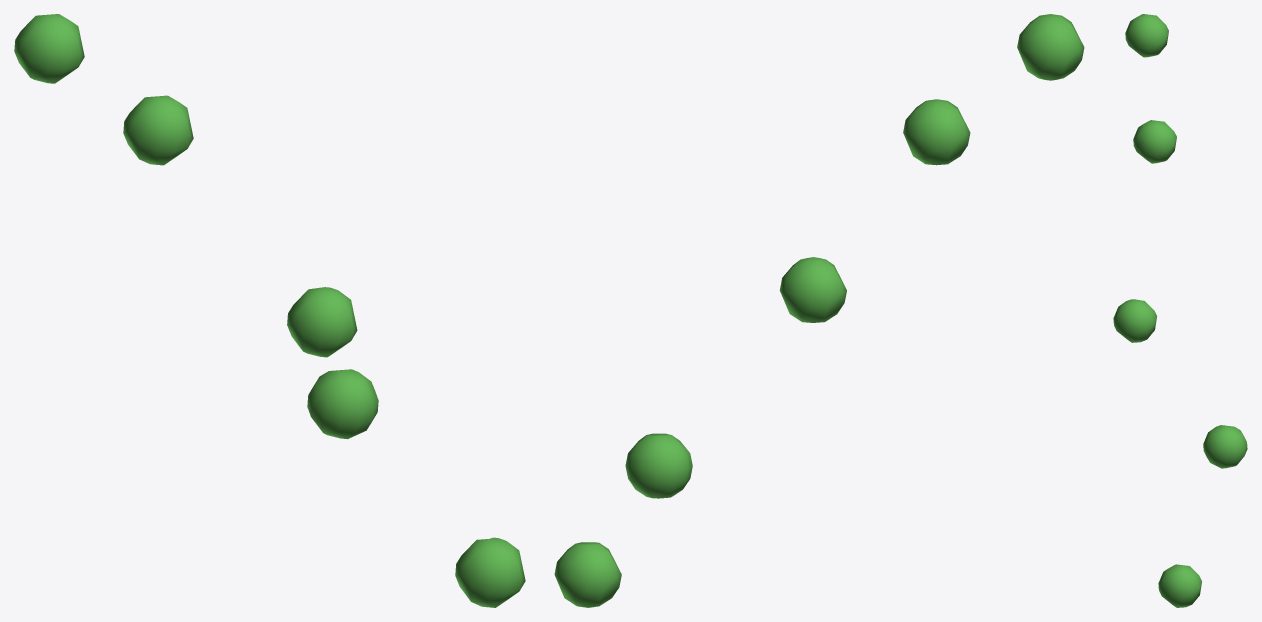
Rendered from linfatico-brachial-nodes-l.glb.
The picture shows the model from 3 angles, left to right: view 1: azimuth 30°, elevation 25°; view 2: azimuth 150°, elevation 25°; view 3: azimuth 270°, elevation 25°; orthographic projection. The views are drawn at different scales.
Parts seen in each view (by area): view 1: Brachial nodes.l; view 2: Brachial nodes.l; view 3: Brachial nodes.l.
Part boxes in pixels (x1,y1,x2,y2): Brachial nodes.l: (14, 14, 525, 607); Brachial nodes.l: (554, 14, 1084, 607); Brachial nodes.l: (1113, 14, 1247, 607).
Bounding box in the file's own units: 0.0221 × 0.0288 × 0.00779.
